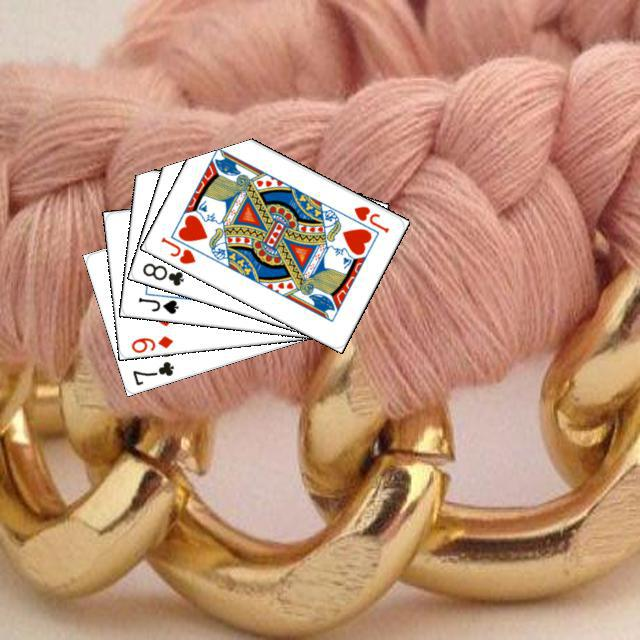7c: (127, 356, 176, 387)
8c: (137, 258, 186, 288)
9d: (126, 331, 175, 354)
Jh: (349, 201, 391, 235), (156, 232, 197, 266)
Js: (133, 293, 180, 316)
